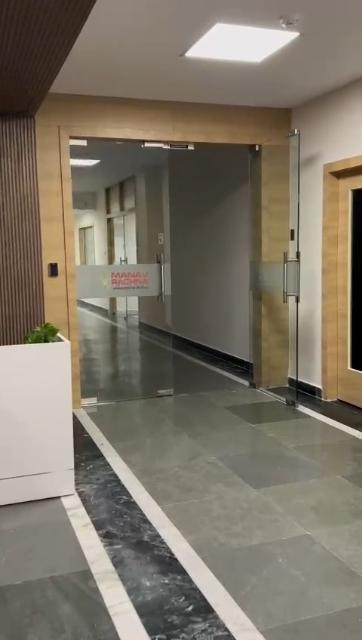door: (319, 159, 362, 403)
floor: (0, 347, 362, 640)
wall: (172, 167, 250, 345), (300, 105, 362, 149)
